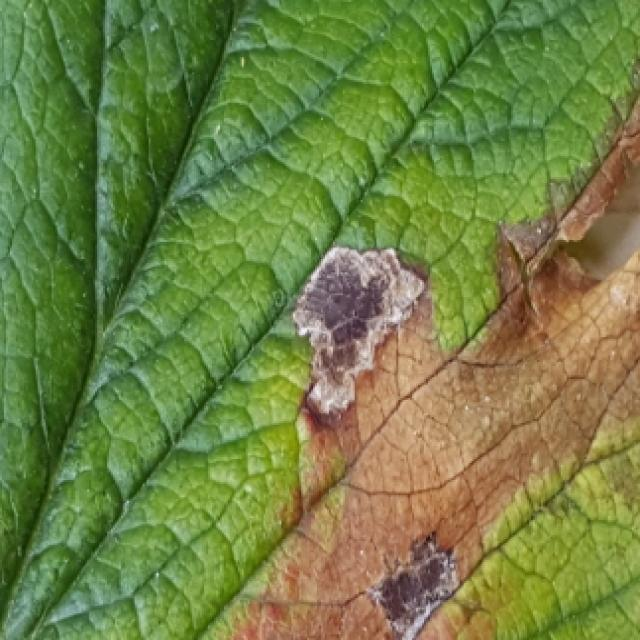Angular Leafspot: (192, 65, 640, 640)
